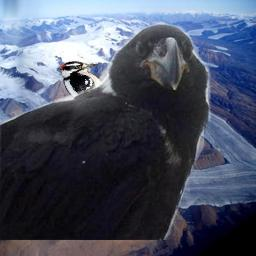Crow: (0, 22, 212, 240)
Woodpecker: (60, 61, 112, 130)
